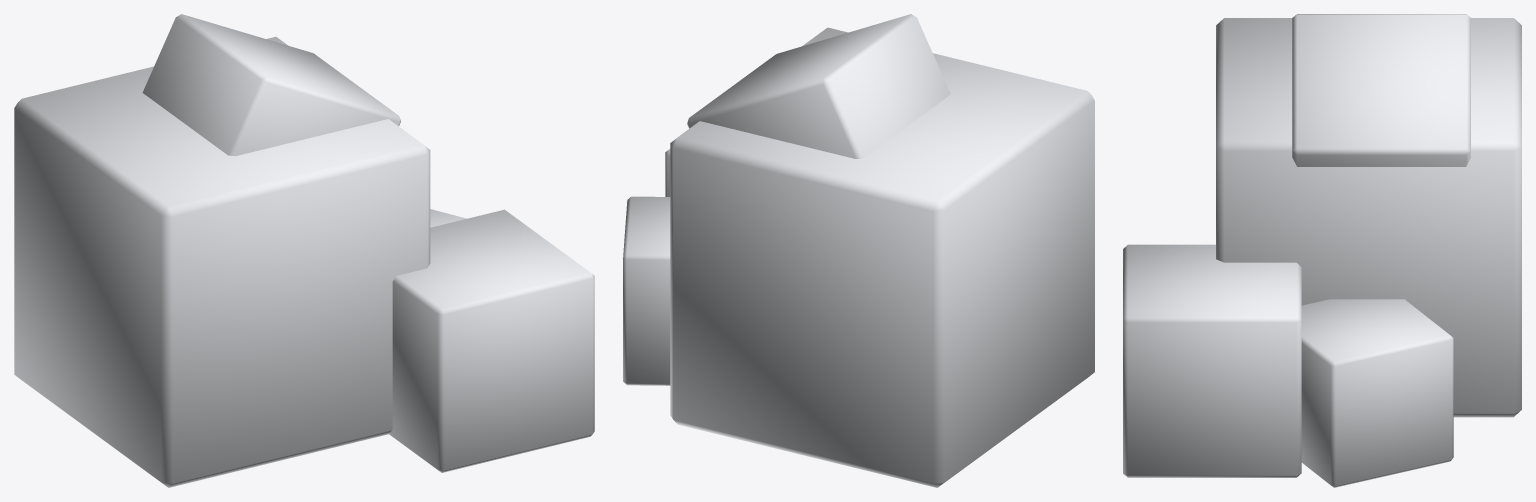
File: bush-59_col.fbx
3 views of the same model, side by side, from view 1: azimuth 30°, elevation 25°; view 2: azimuth 150°, elevation 25°; view 3: azimuth 270°, elevation 25° (orthographic). The views are drawn at different scales.
Parts seen in each view (by area): view 1: bush-59.col; view 2: bush-59.col; view 3: bush-59.col.
Boxes of the visible parts, box(x1,y1,x2,y2) form: bush-59.col: box(14, 14, 594, 487); bush-59.col: box(623, 14, 1094, 487); bush-59.col: box(1123, 14, 1521, 487).
Size of the model in its own units: 0.2823 by 0.2391 by 0.2467.
1 material, 1 textured.
